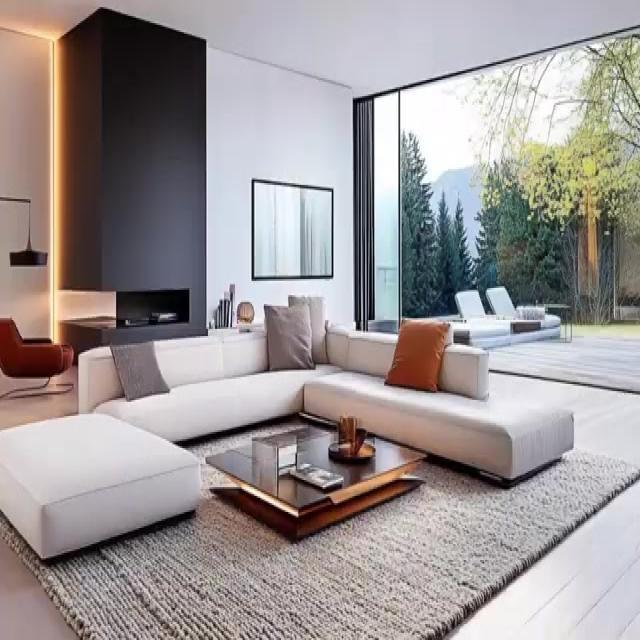obstacle: (80, 321, 574, 484), (206, 420, 428, 540), (0, 316, 74, 398)
